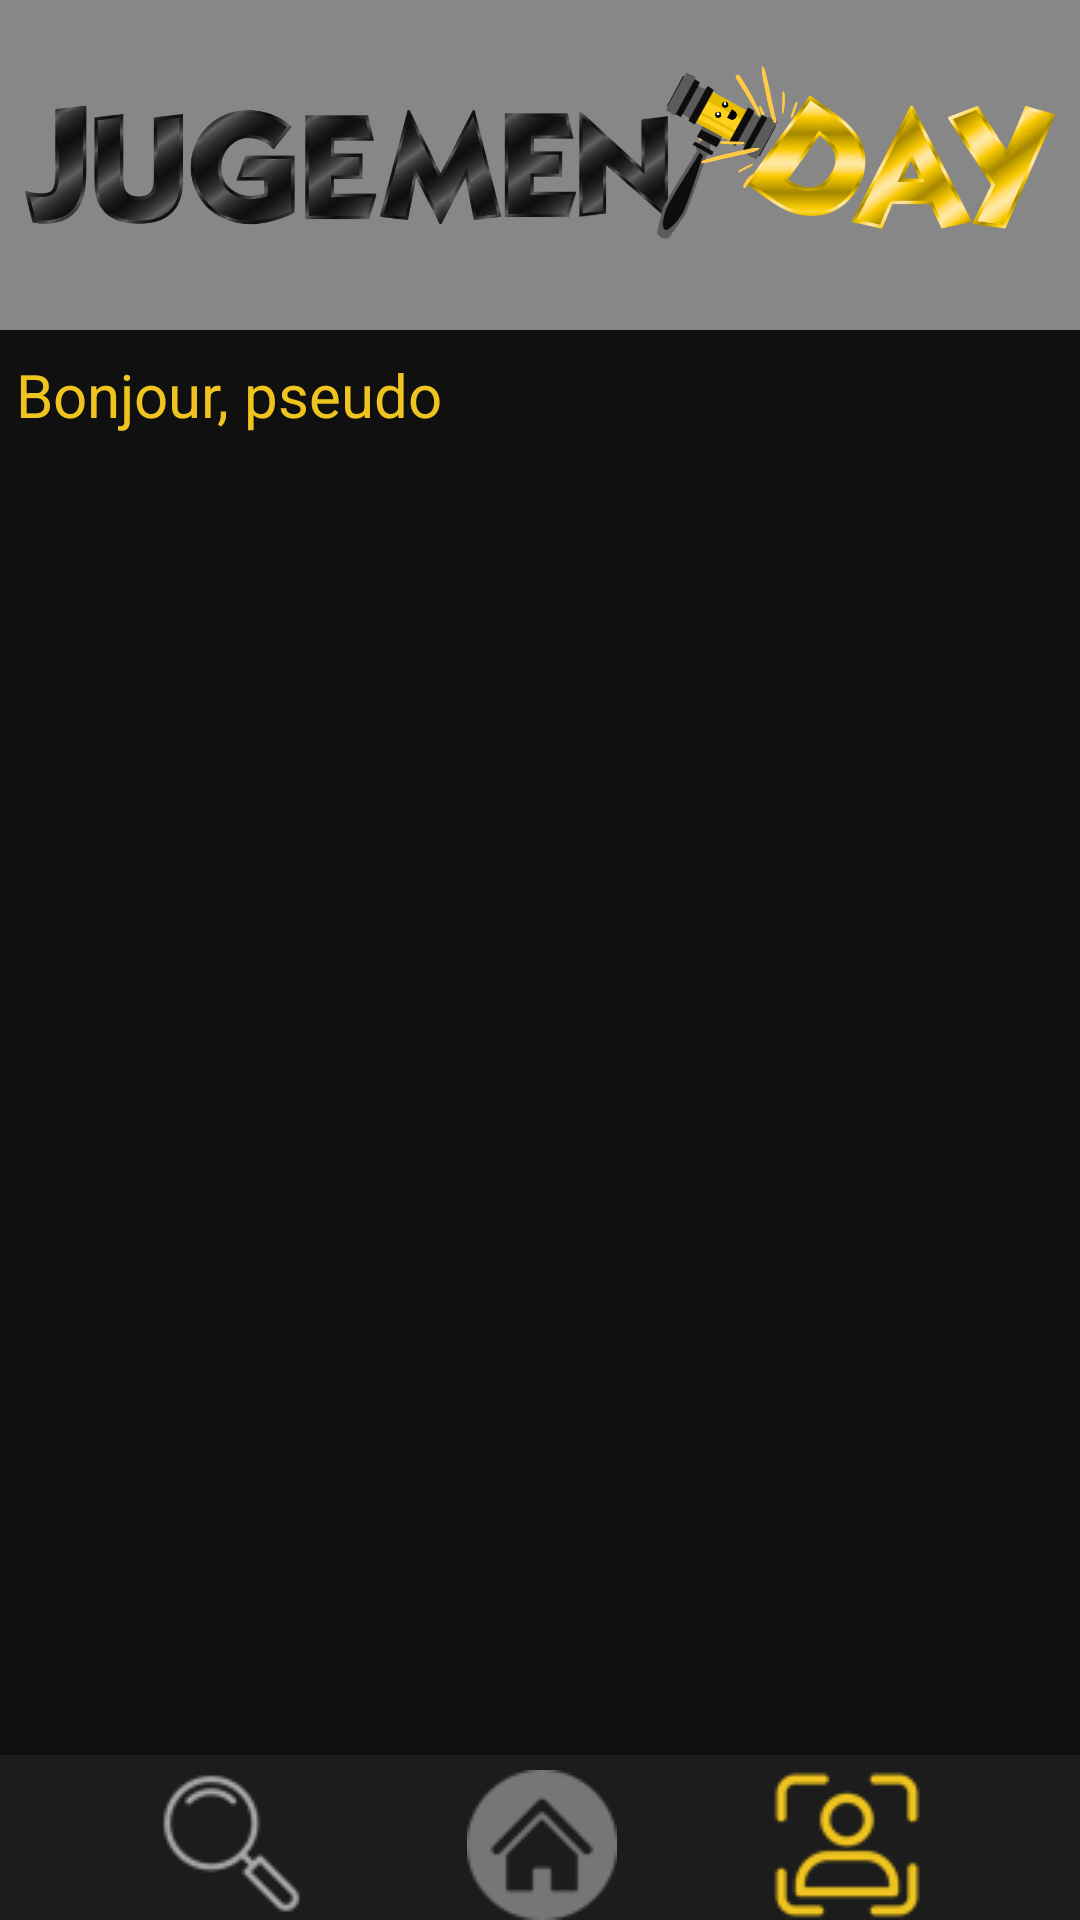

Icons on this 1080 × 1920 Android screen, each with its box as region(x1, y1, x2, y2):
Accueil: region(467, 1770, 617, 1920)
Profil: region(774, 1772, 920, 1918)
Rechercher: region(163, 1775, 300, 1912)
